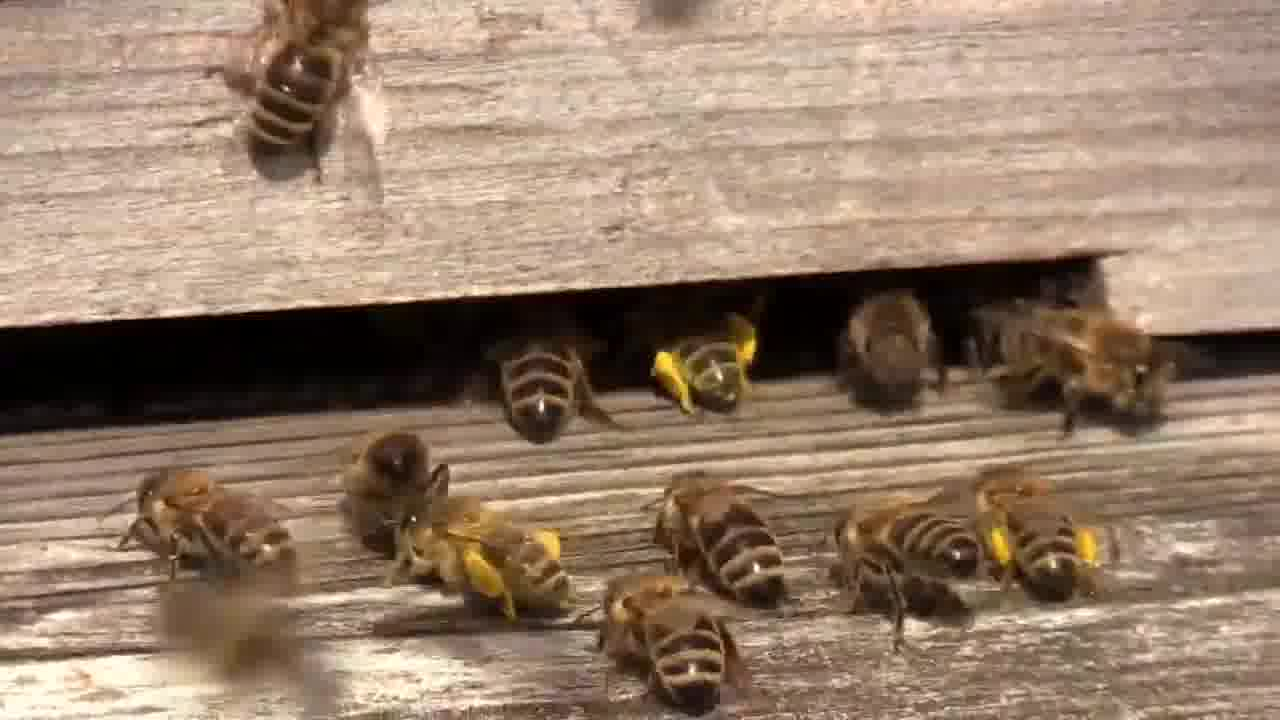pollen: (400, 488, 587, 628), (966, 461, 1112, 596), (633, 314, 764, 407)
